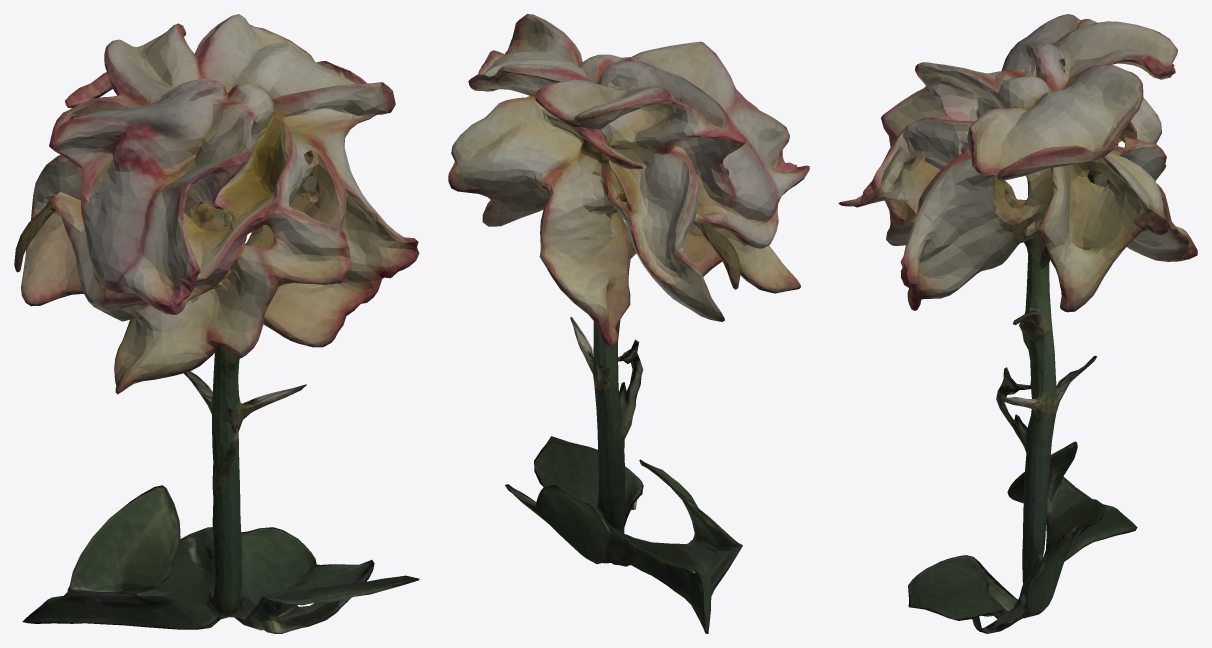
3 views of the same model, side by side, from view 1: azimuth 30°, elevation 25°; view 2: azimuth 150°, elevation 25°; view 3: azimuth 270°, elevation 25° (orthographic). The views are drawn at different scales.
Visible parts, largest first — view 1: world; view 2: world; view 3: world.
Boxes of the visible parts, left/top/right/bottom form: world: left=14, top=14, right=419, bottom=633; world: left=448, top=14, right=809, bottom=633; world: left=838, top=14, right=1197, bottom=633.
Size of the model in its own units: 0.5447 by 0.9369 by 0.5459.
Materials: 1 (1 with a texture image).
